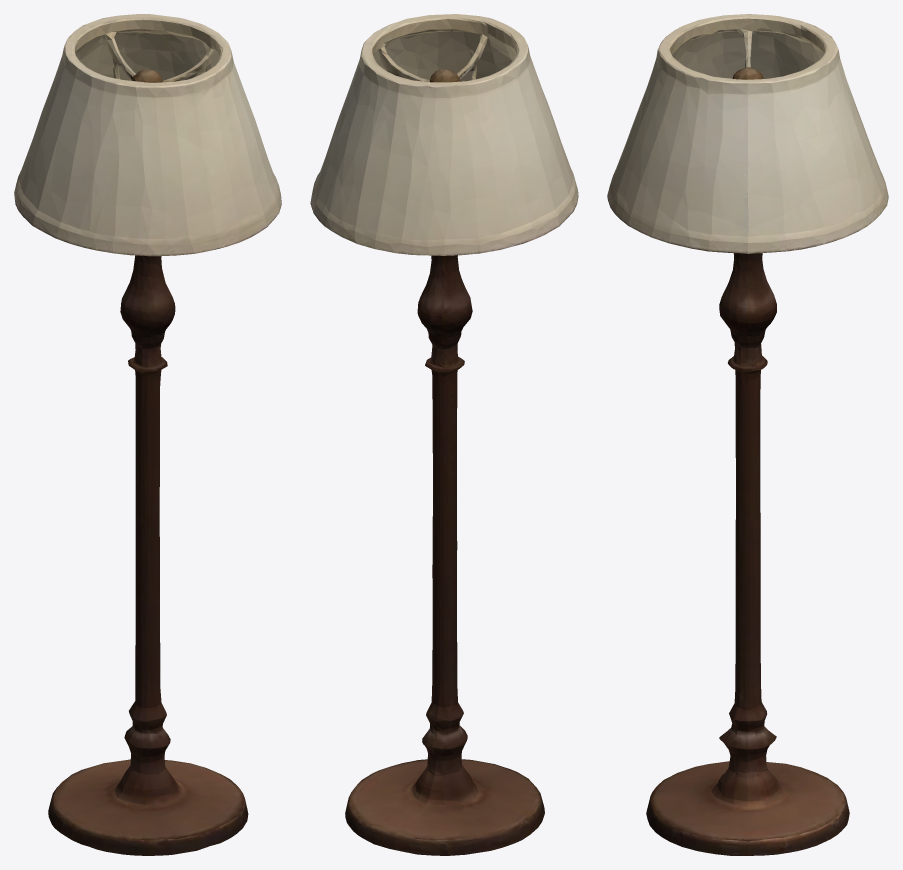
File: tall lamp.glb
3 views of the same model, side by side, from view 1: azimuth 30°, elevation 25°; view 2: azimuth 150°, elevation 25°; view 3: azimuth 270°, elevation 25° (orthographic).
Visible parts, largest first — view 1: world; view 2: world; view 3: world.
Part boxes in pixels (bbox=[...]): world: bbox=[14, 14, 281, 855]; world: bbox=[310, 14, 578, 855]; world: bbox=[607, 14, 888, 855].
Size of the model in its own units: 0.3155 by 1 by 0.3332.
1 material, 1 textured.
